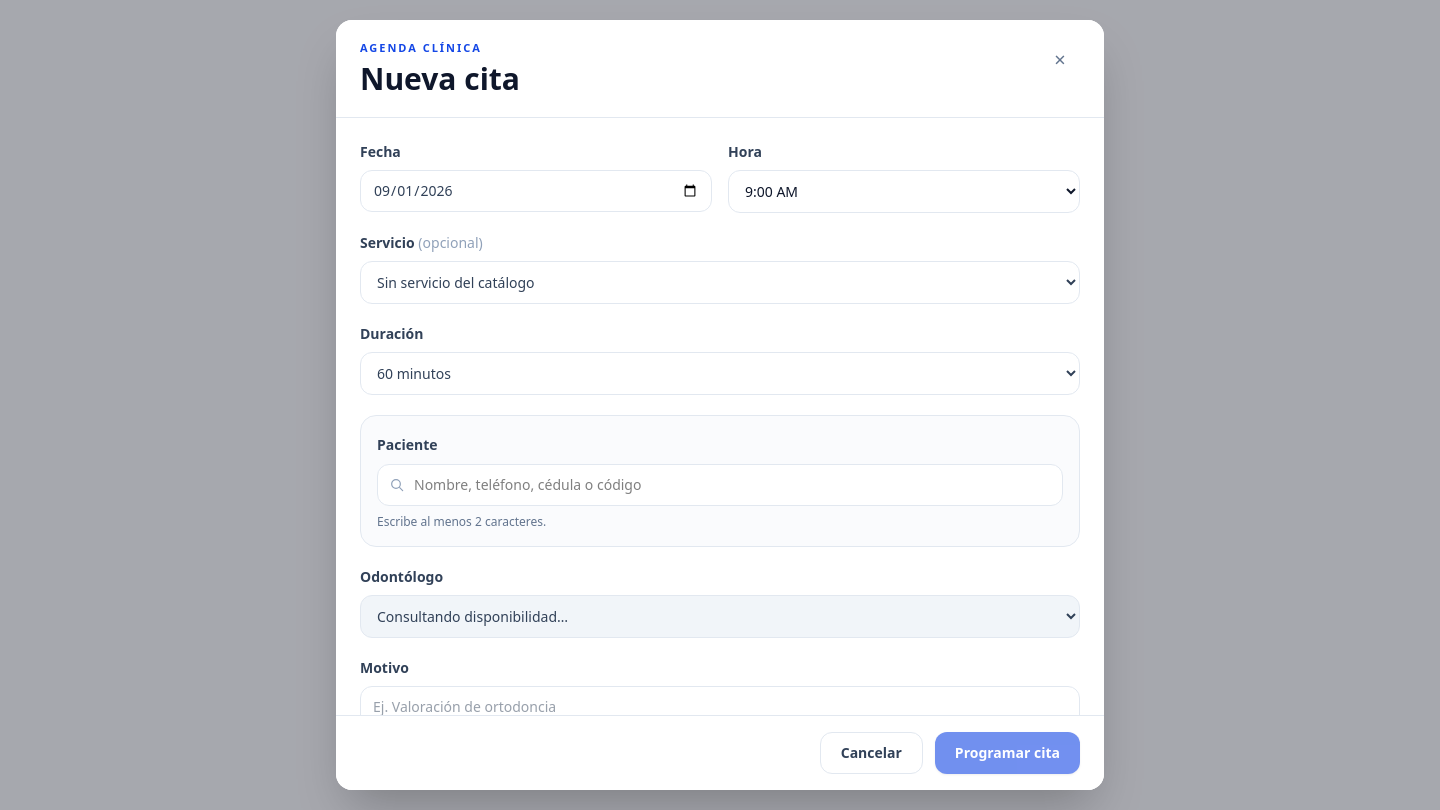
it: AppointmentFormPanel patient search › shows a patient-specific API error without closing the form
Type "Error" into the dropdown labelled "Paciente" at [720, 484], box [377, 464, 1063, 506]
Wait 300 ms
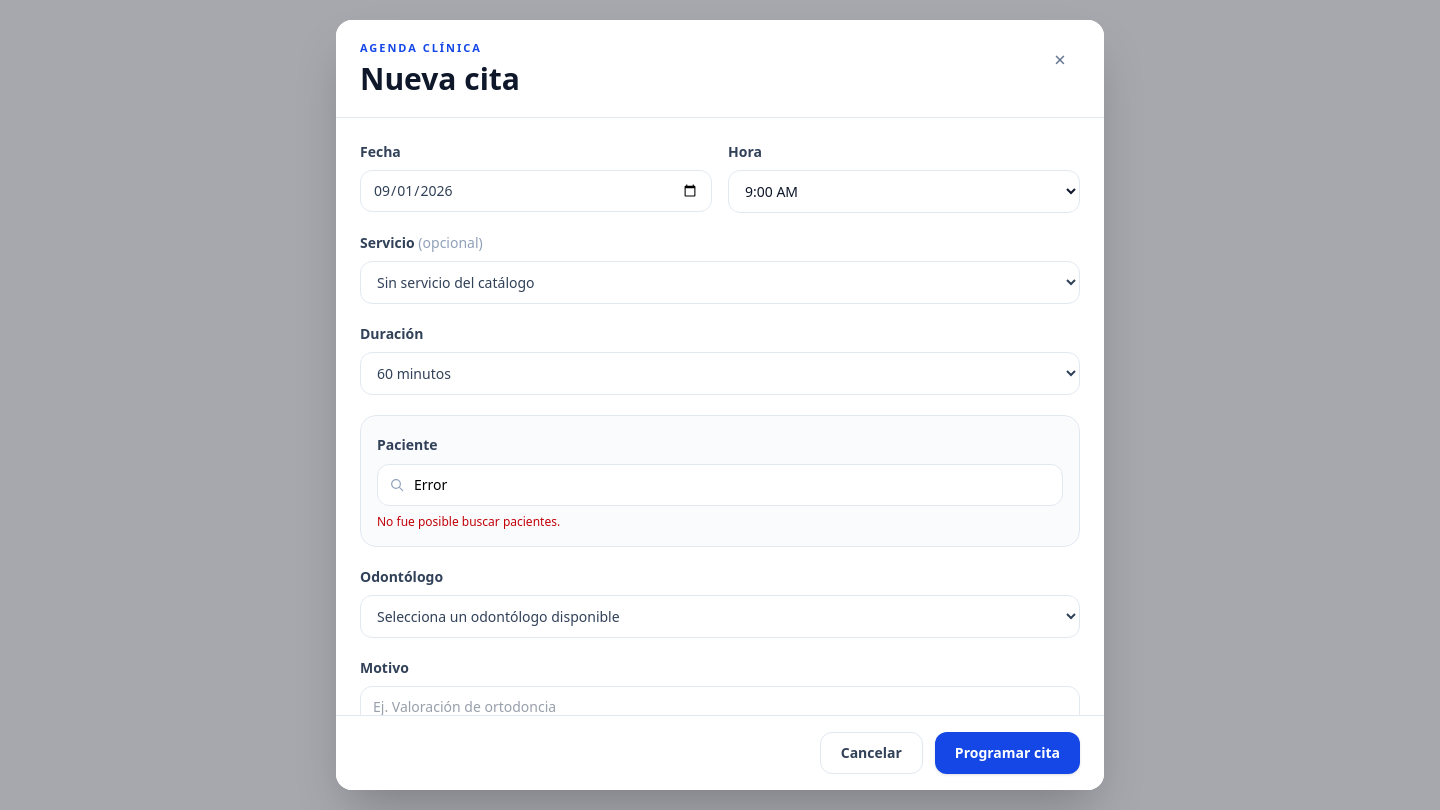
Expected: the dialog "Nueva cita" is shown, [336, 20, 1104, 790]
Now the message reads "No fue posible buscar pacientes.", box [377, 512, 560, 530]
